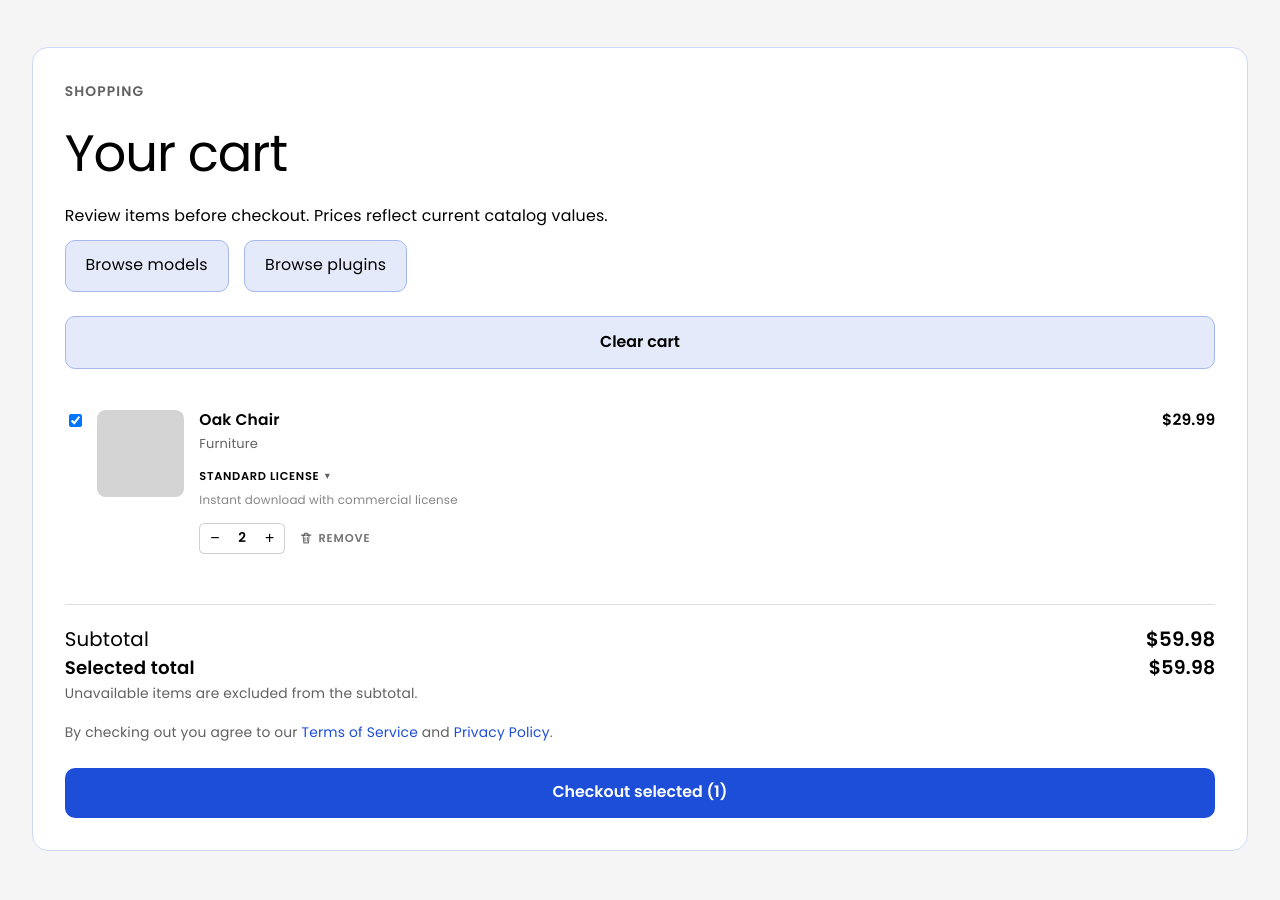
CartPage › buys only the ticked items: unticking the last one disables checkout
Click the checkbox named "Buy Oak Chair" at {"x": 75, "y": 421}, box x1=69 y1=414 x2=82 y2=427
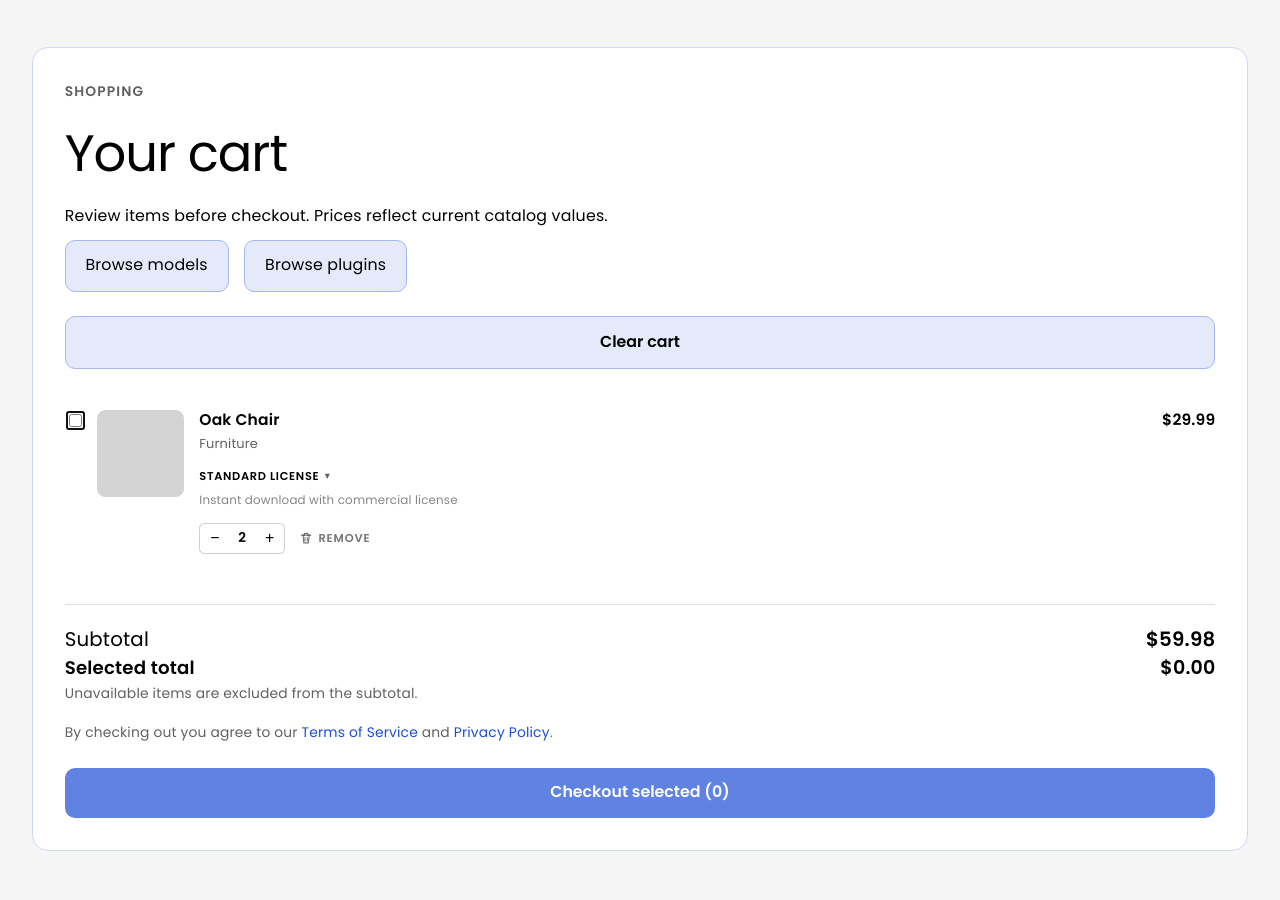
Result: the button "Checkout selected (0)" is disabled at x1=65 y1=768 x2=1215 y2=818
